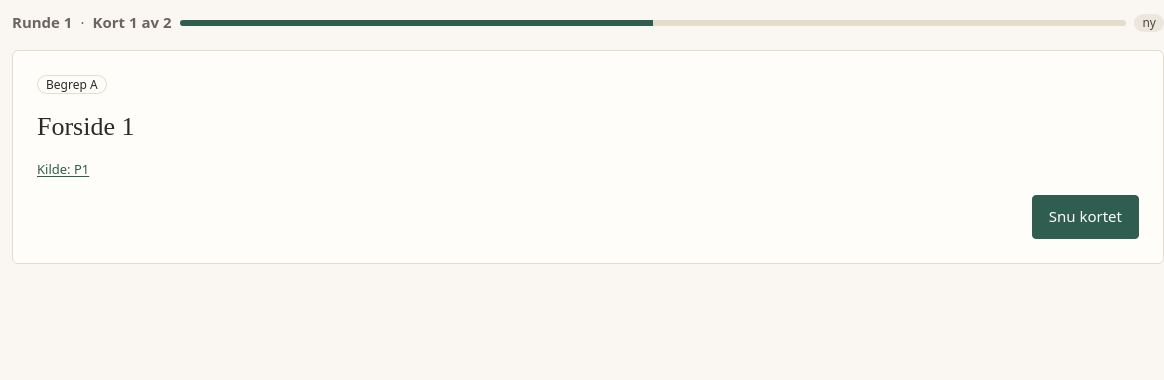
Scenario: RoundScreen Flashcards › a saved mark shows the next card with focus on its h2 and the updated chip
Click the button "Snu kortet" at (1085, 217), box [1032, 195, 1139, 239]
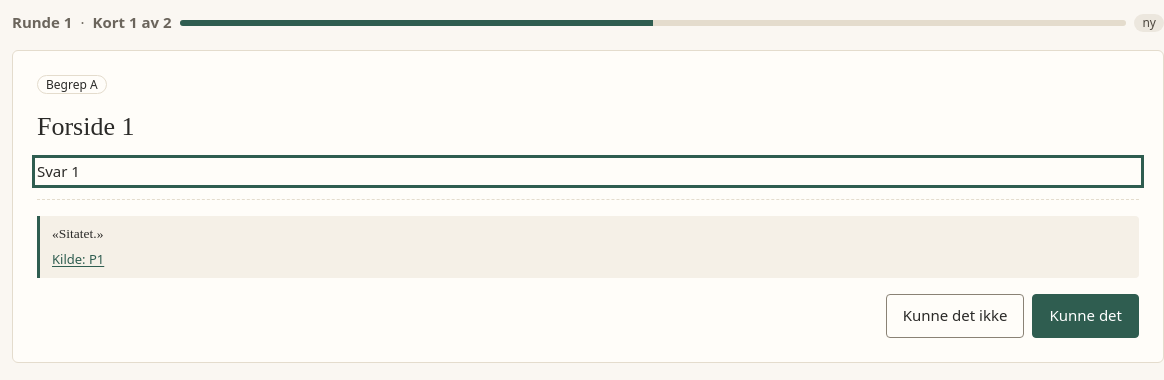
Click the button "Kunne det" at (1086, 316), box [1032, 294, 1139, 338]
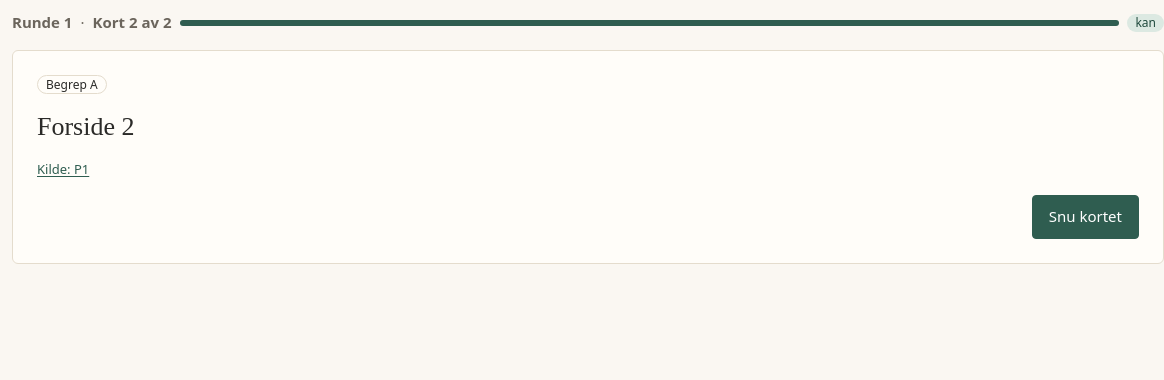
Now the heading "Kort 2 av 2" is shown, box [92, 12, 172, 34]
Now the text "Forside 2" is shown, box [37, 112, 134, 141]
Now the text "kan" is shown, box [1127, 14, 1163, 32]
